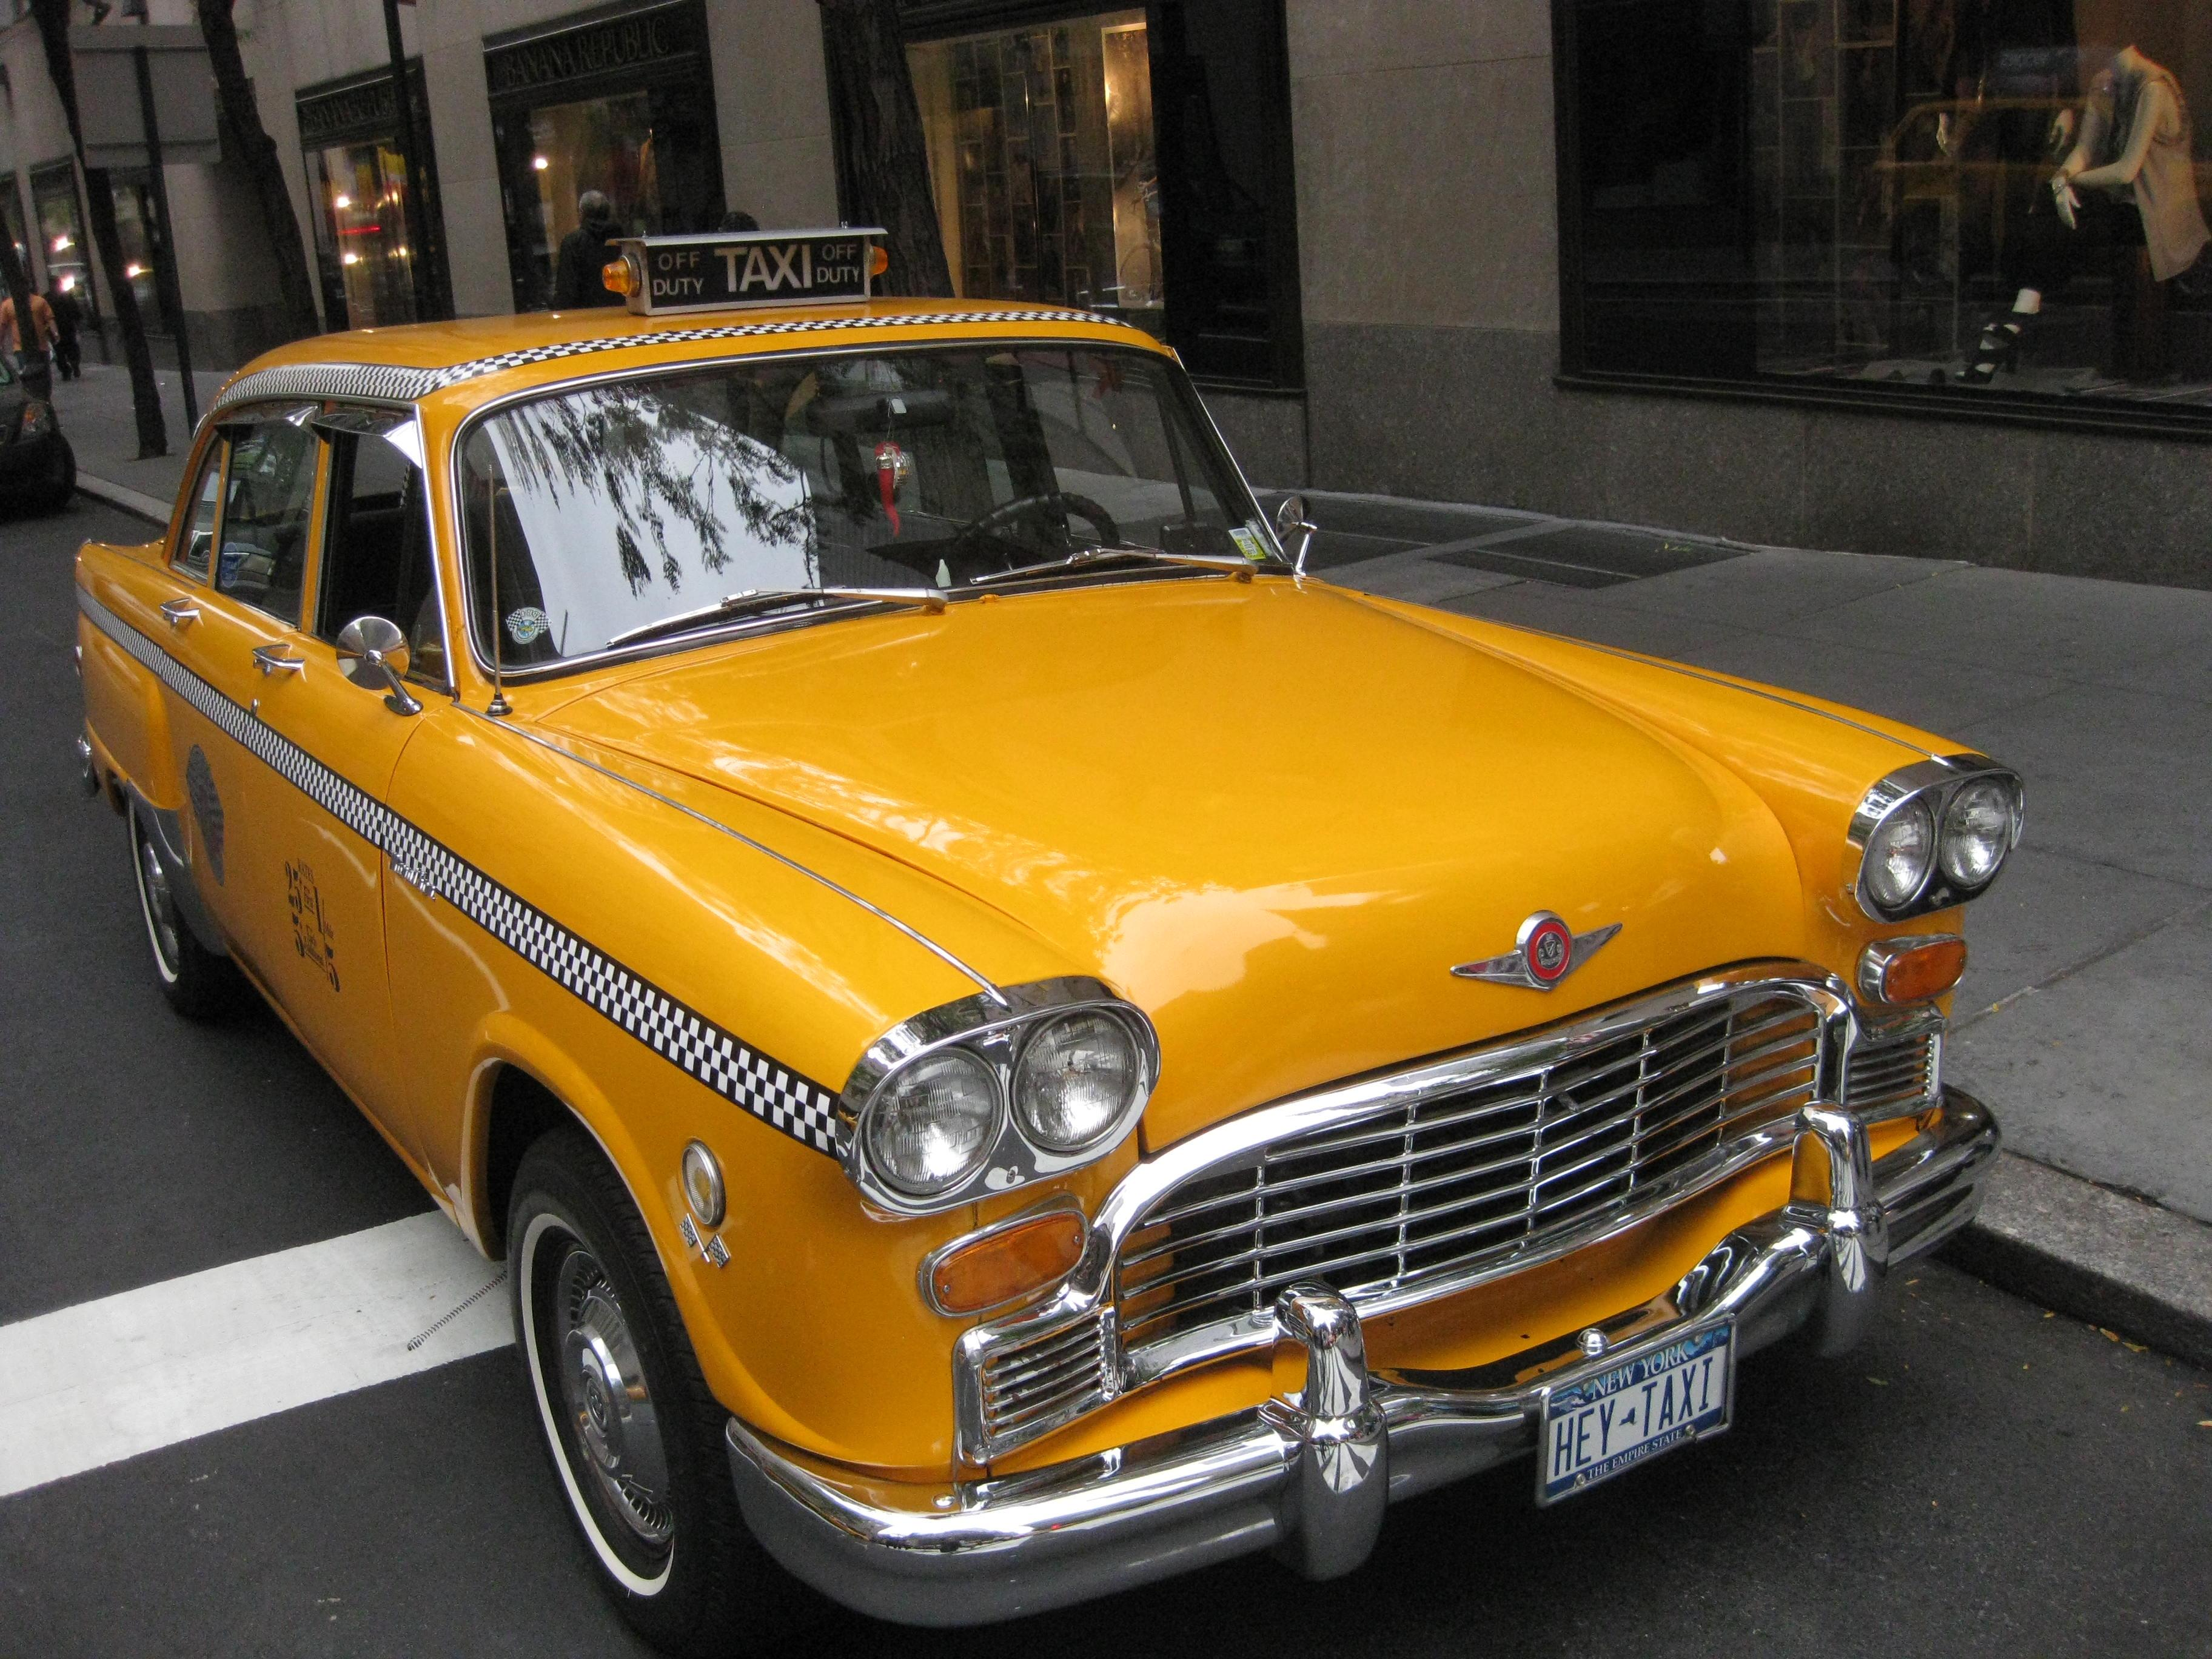taxi: (12, 207, 2097, 1659)
